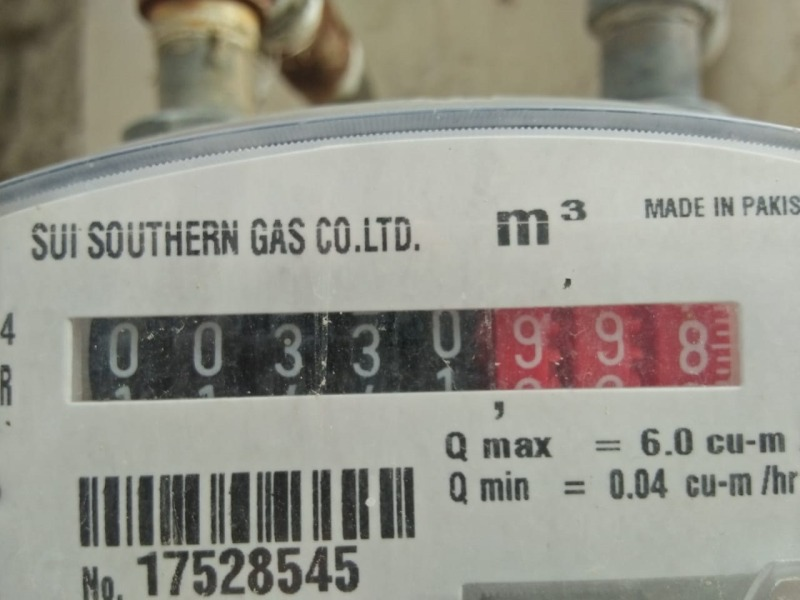ssgc: (66, 302, 746, 397)
